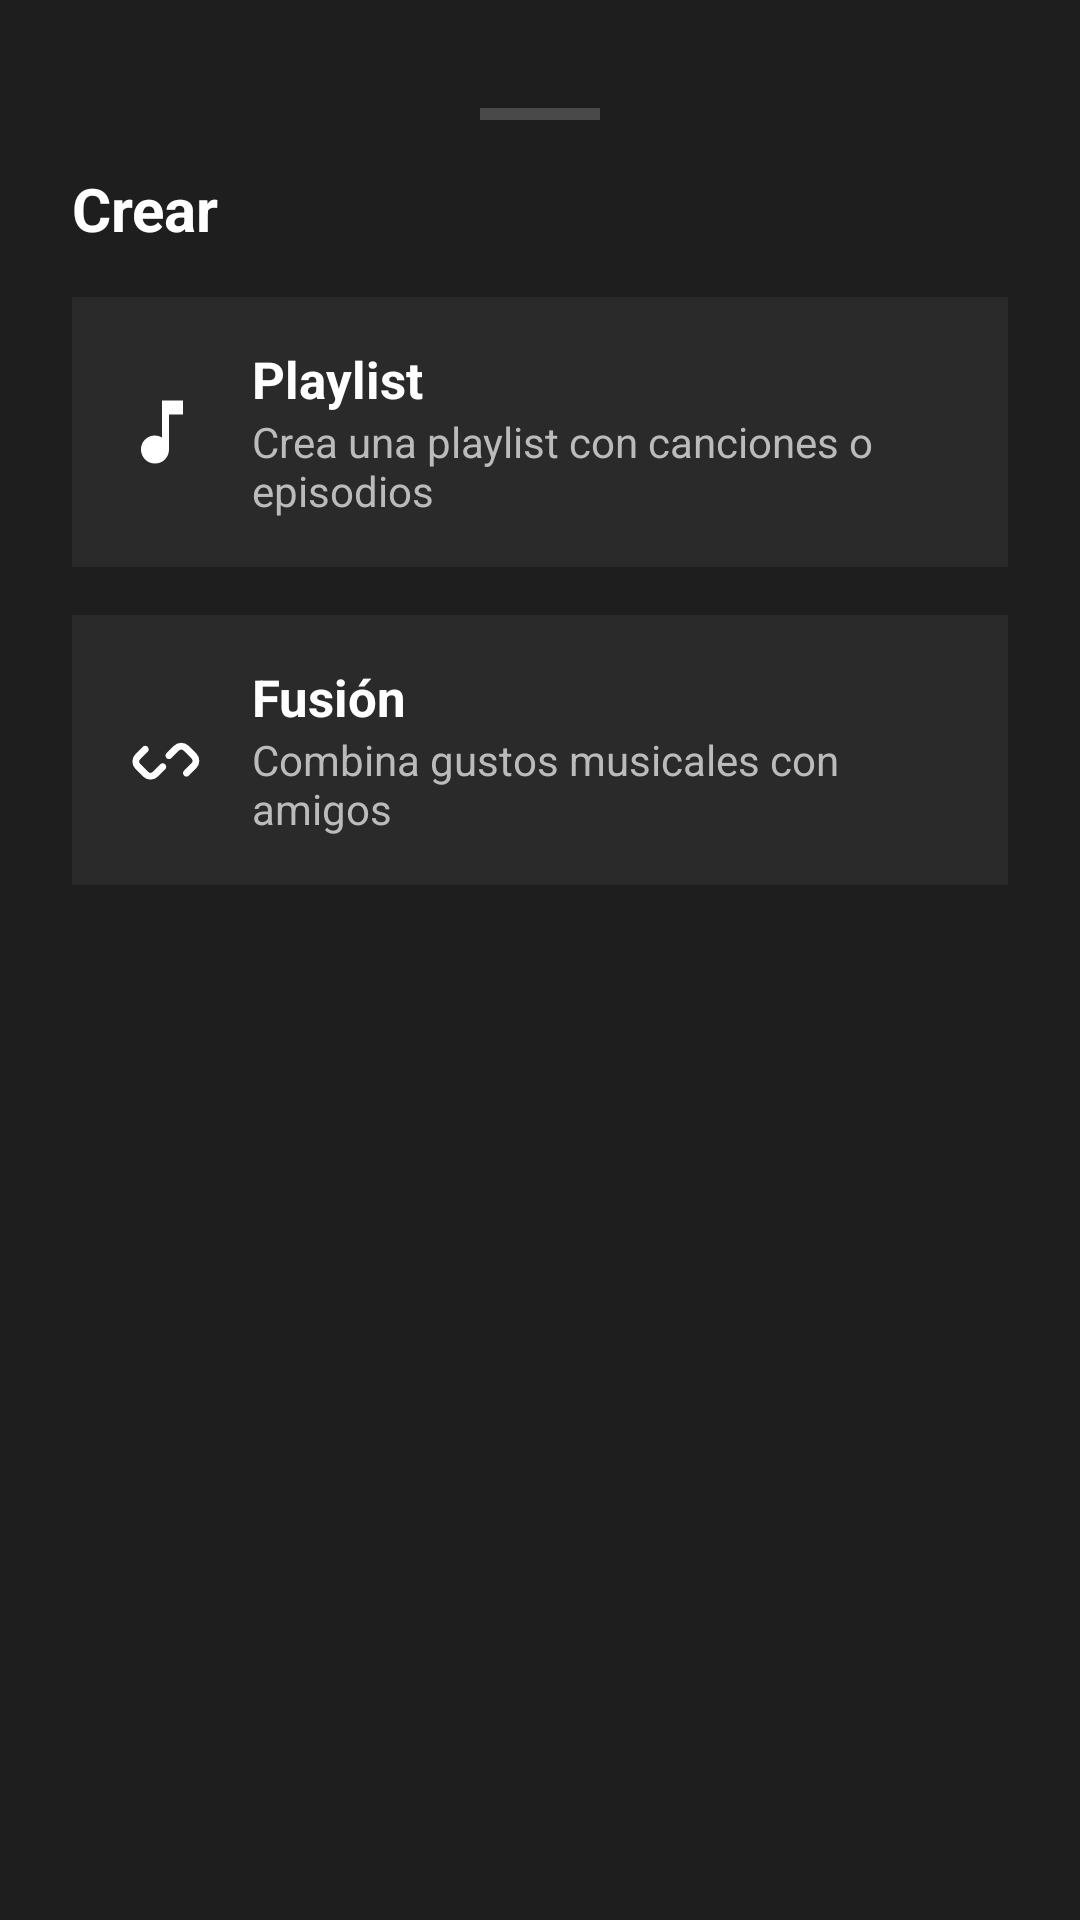

Named icons in this screenshot (1080 × 1920) and their centers, point (x, y):
fusion: point (166, 761)
